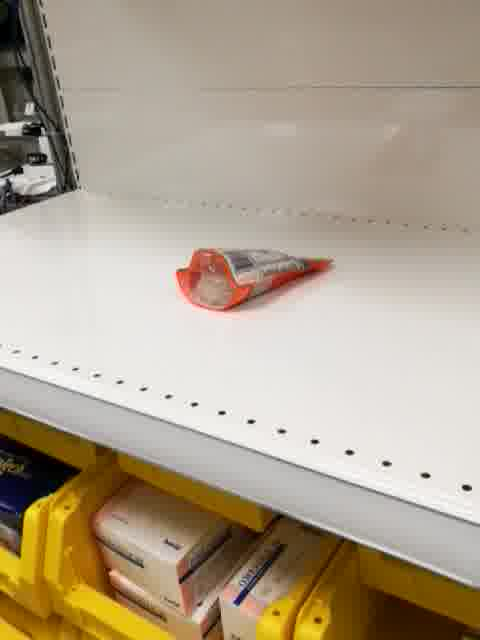whitechia: (171, 248, 335, 313)
